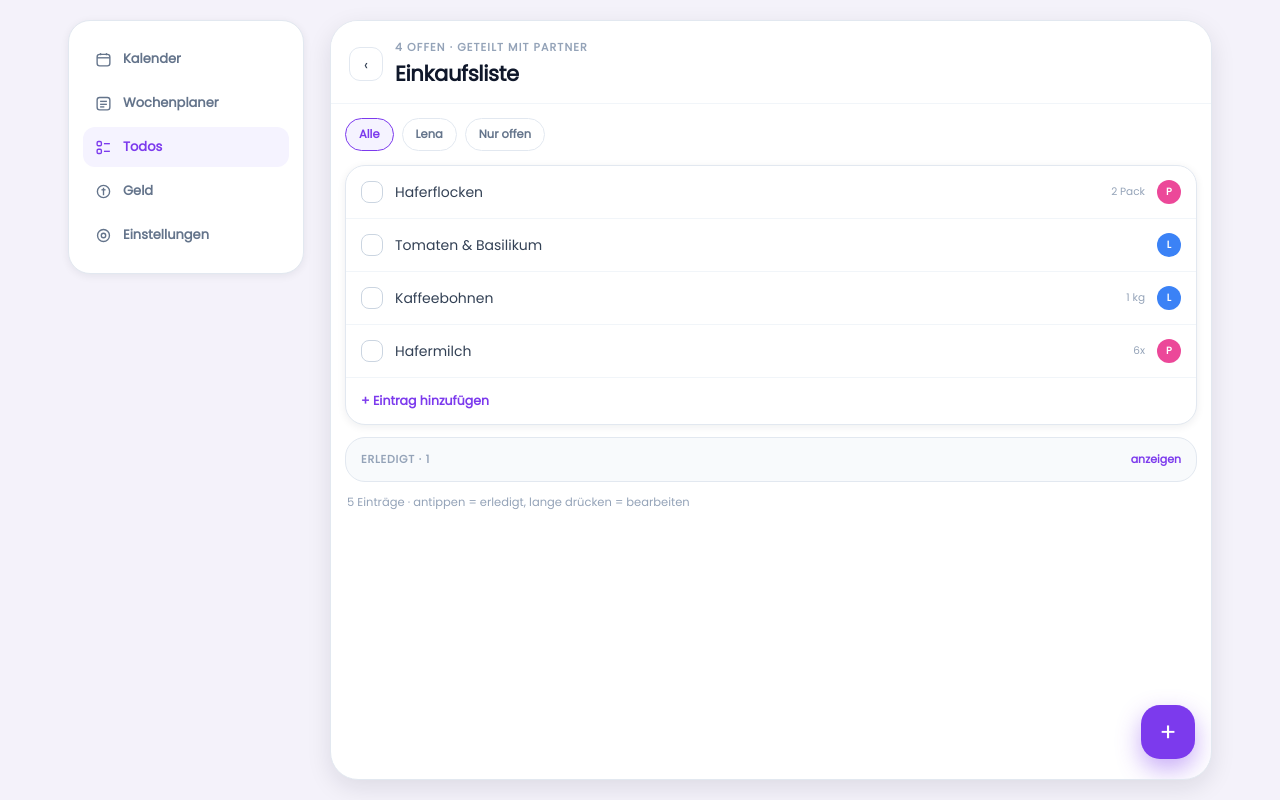
it: TodoDetail › haelt Erledigtes hinter einem Aufklapper
Expected: the checkbox labelled "Haferflocken" is shown, [361,181,383,203]
Expected: the checkbox labelled "Spülmaschinentabs" is not shown
Click the button "Erledigt · 1 anzeigen" at (388, 459), box [346,438,1196,481]
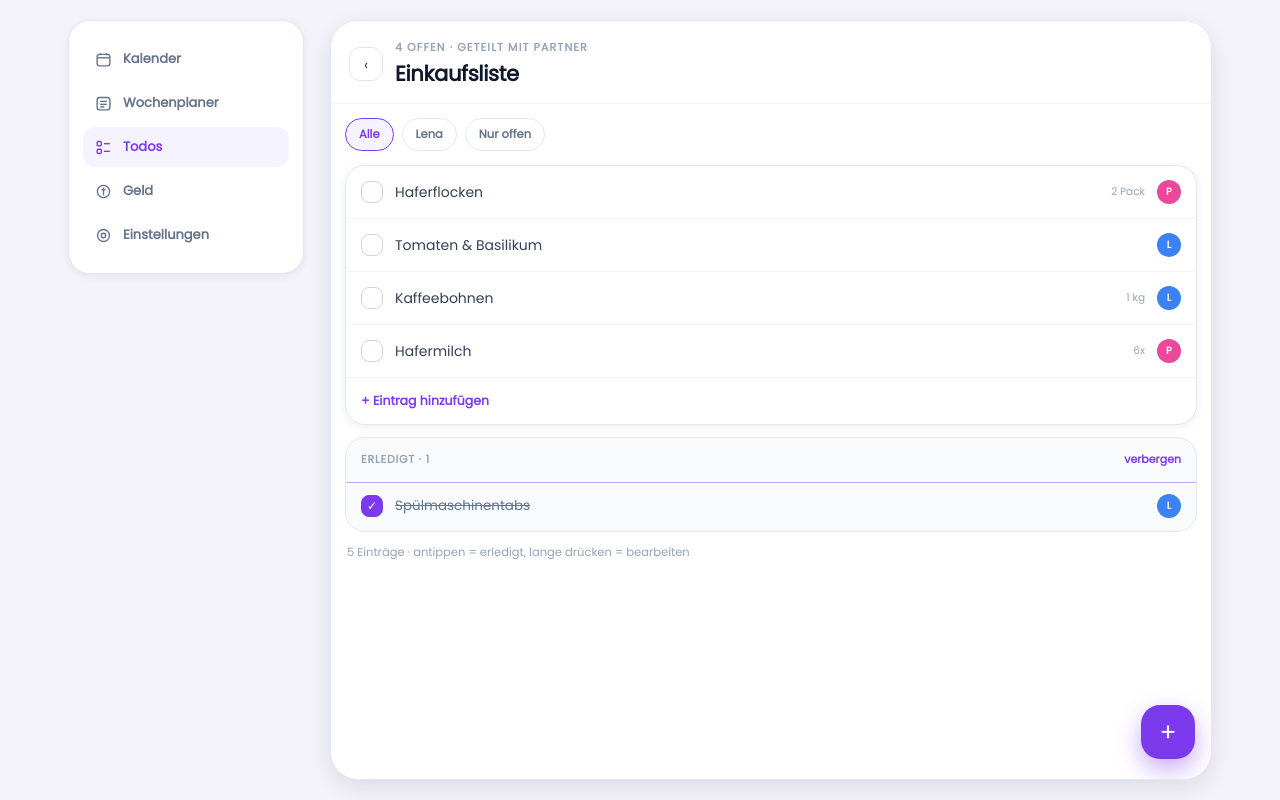
Expected: the checkbox labelled "Spülmaschinentabs" is shown, [361,495,383,517]
